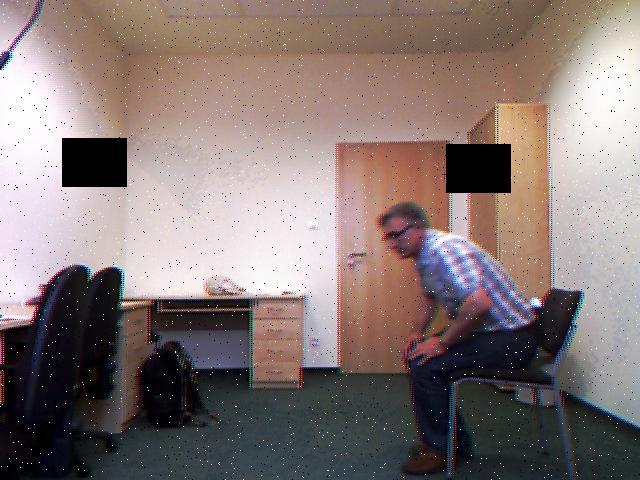sitting: (365, 194, 554, 480)
